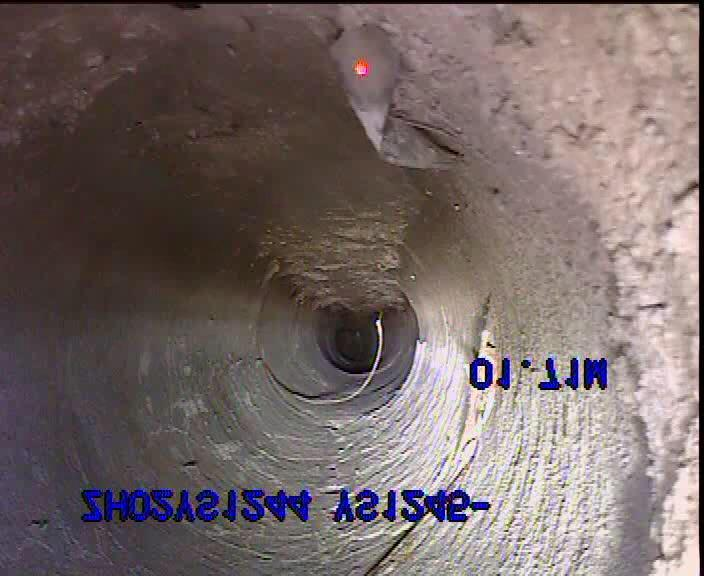CJ: (0, 8, 423, 312)
JKCL: (267, 315, 384, 405)
